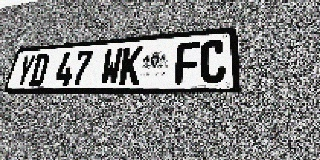4: (54, 51, 77, 86)
7: (70, 50, 94, 86)
C: (200, 39, 226, 84)
D: (28, 54, 50, 87)
F: (175, 41, 200, 84)
K: (119, 46, 143, 85)
W: (99, 48, 124, 85)
Y: (14, 55, 36, 87)
